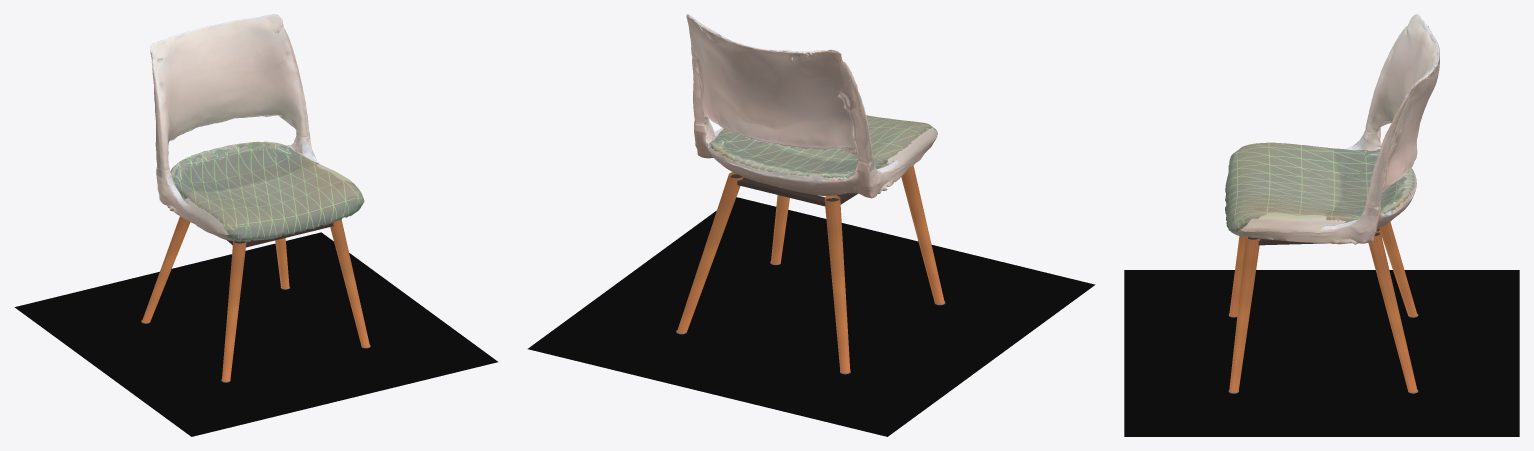
Rendered from chair.glb.
3 views of the same model, side by side, from view 1: azimuth 30°, elevation 25°; view 2: azimuth 150°, elevation 25°; view 3: azimuth 270°, elevation 25° (orthographic). The views are drawn at different scales.
Parts seen in each view (by area): view 1: shadow, back, seat, legs; view 2: shadow, back, seat, legs; view 3: shadow, seat, back, legs.
Boxes of the visible parts, left/top/right/bottom form: shadow: left=14, top=232, right=497, bottom=436; back: left=150, top=14, right=310, bottom=178; seat: left=156, top=140, right=364, bottom=241; legs: left=141, top=216, right=370, bottom=382; shadow: left=528, top=197, right=1095, bottom=436; back: left=686, top=14, right=874, bottom=172; seat: left=694, top=115, right=937, bottom=198; legs: left=676, top=165, right=945, bottom=374; shadow: left=1124, top=270, right=1519, bottom=436; seat: left=1225, top=137, right=1416, bottom=244; back: left=1361, top=14, right=1439, bottom=215; legs: left=1228, top=221, right=1418, bottom=393.
Bounding box in the file's own units: 1 × 0.8553 × 1.
Materials: 6 (4 with a texture image).
